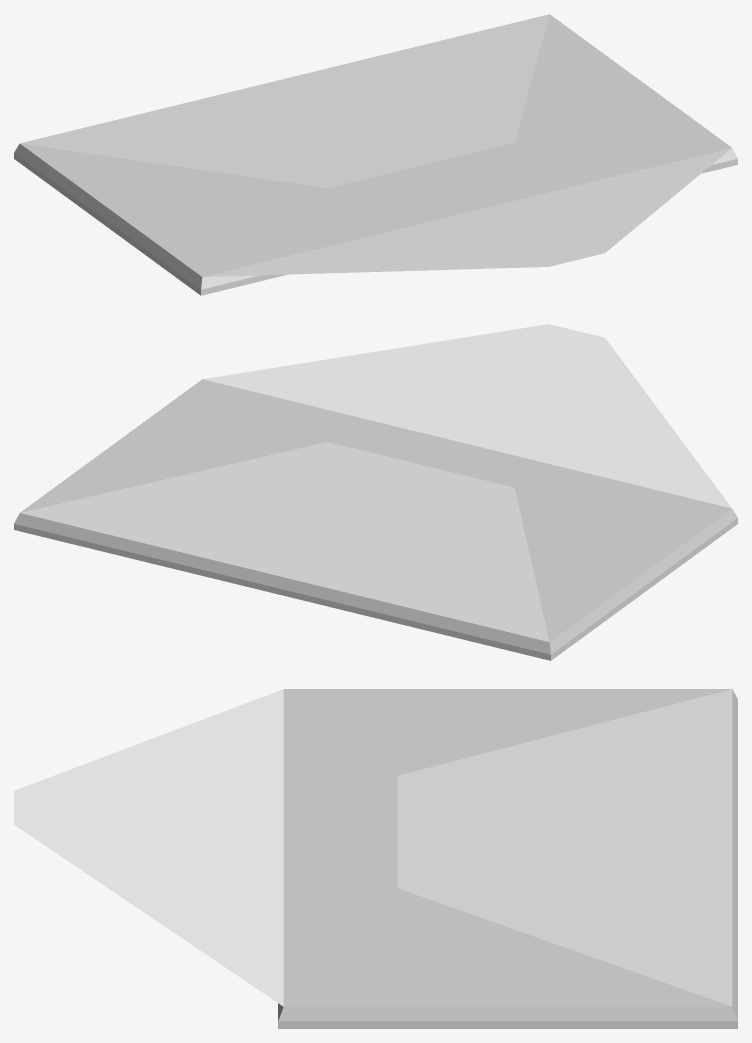
The model's file is letter02.gltf.
3 views of the same model, one above another, from view 1: azimuth 30°, elevation 25°; view 2: azimuth 150°, elevation 25°; view 3: azimuth 270°, elevation 25° (orthographic). The views are drawn at different scales.
Parts seen in each view (by area): view 1: Cube; view 2: Cube; view 3: Cube.
Boxes of the visible parts, x1,y1,x2,y2 form: Cube: (14, 14, 737, 295); Cube: (14, 324, 737, 660); Cube: (14, 689, 737, 1028).
Bounding box in the file's own units: 0.1264 × 0.012 × 0.1202.
1 material, 1 textured.
